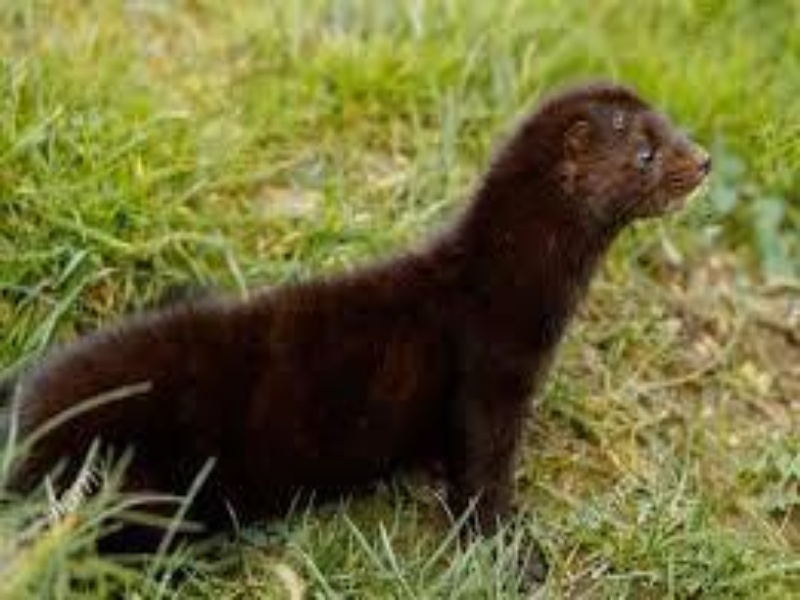minkish: (4, 75, 716, 579)
